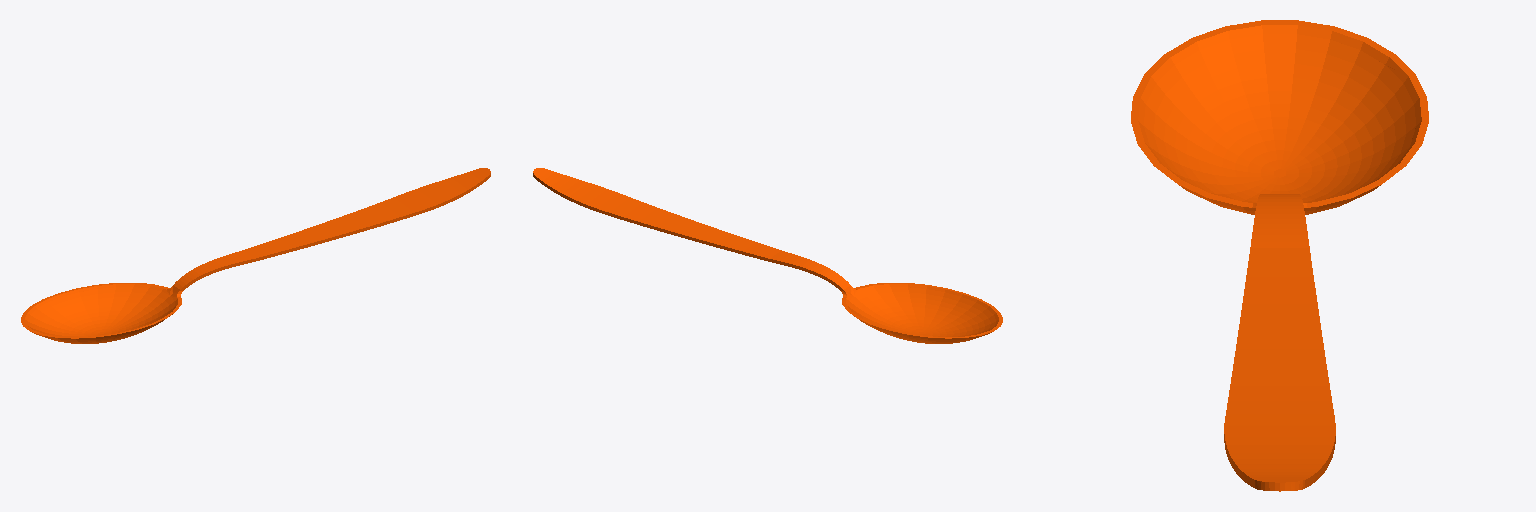
robot.urdf — Spoon_552f9c566cbbbae87c8489092272d18:
<?xml version="1.0" ?>
<robot name="Spoon_552f9c566cbbbae87c8489092272d18">
   <material name="obj_color">
      <color rgba="1.0 0.423529411765 0.0392156862745 1.0"/>
   </material>
   <link name="top">
      <inertial>
         <origin rpy="1.471483655332255e-07 3.665829372702279e-06 3.783017609290244e-06" xyz="0.0122514061916658 2.822335738505919e-05 0.002411592280948784"/>
         <mass value="0.006369885329708366"/>
         <inertia ixx="1.940845654407427e-07" ixy="-1.488078683929362e-10" ixz="-4.104276500152797e-07" iyy="3.665829366324032e-06" iyz="-1.766020654497031e-11" izz="3.736081415760975e-06"/>
      </inertial>
      <visual>
         <origin rpy="0 0 0" xyz="0 0 0"/>
         <geometry>
            <mesh filename="top_watertight_tiny.stl" scale="1 1 1"/>
         </geometry>
         <material name="obj_color"/>
      </visual>
      <collision>
         <origin rpy="0 0 0" xyz="0 0 0"/>
         <geometry>
            <mesh filename="top_watertight_tiny.obj" scale="1 1 1"/>
         </geometry>
      </collision>
   </link>
   <link name="bottom">
      <inertial>
         <origin rpy="1.633333333199431e-08 1.633333333199431e-08 1.633333333362855e-08" xyz="0.3464080000000008 0.3464080000000008 0.3464080000000008"/>
         <mass value="0.0009800000000000017"/>
         <inertia ixx="1.633333333253906e-08" ixy="5.447480642029219e-19" ixz="5.447480642029219e-19" iyy="1.633333333253906e-08" iyz="5.447480642029219e-19" izz="1.633333333253906e-08"/>
      </inertial>
      <visual>
         <origin rpy="0 0 0" xyz="0 0 0"/>
         <geometry>
            <mesh filename="bottom_watertight_tiny.stl" scale="1 1 1"/>
         </geometry>
         <material name="obj_color"/>
      </visual>
   </link>
   <joint name="rotation" type="revolute">
      <origin xyz="0 0 0"/>
      <axis xyz="0 0 -1"/>
      <parent link="bottom"/>
      <child link="top"/>
      <dynamics damping="1.0" friction="1.0"/>
      <limit effort="0.1" velocity="0.1" lower="0" upper="0.001"/>
   </joint>
</robot>

--- Facts derived from the render (not from the file) ---
3 views of the same robot in one strip: view 1: azimuth 30°, elevation 25°; view 2: azimuth 150°, elevation 25°; view 3: azimuth 270°, elevation 25° (orthographic).
Model Spoon_552f9c566cbbbae87c8489092272d18 with 2 links and 1 joints (1 revolute), rooted at bottom, posed all joints at 0.
Visible links, largest first — view 1: top; view 2: top; view 3: top.
Boxes of the visible links, x1,y1,x2,y2 form: top: (21,168,490,343); top: (533,168,1002,343); top: (1131,20,1428,491).
Size in the robot's own frame: 0.1088 by 0.0236 by 0.016 metres.
1 mesh visuals loaded from 2 distinct referenced files (1 binary STL); not drawn: 1 (reference not matched to a file when rendering).
